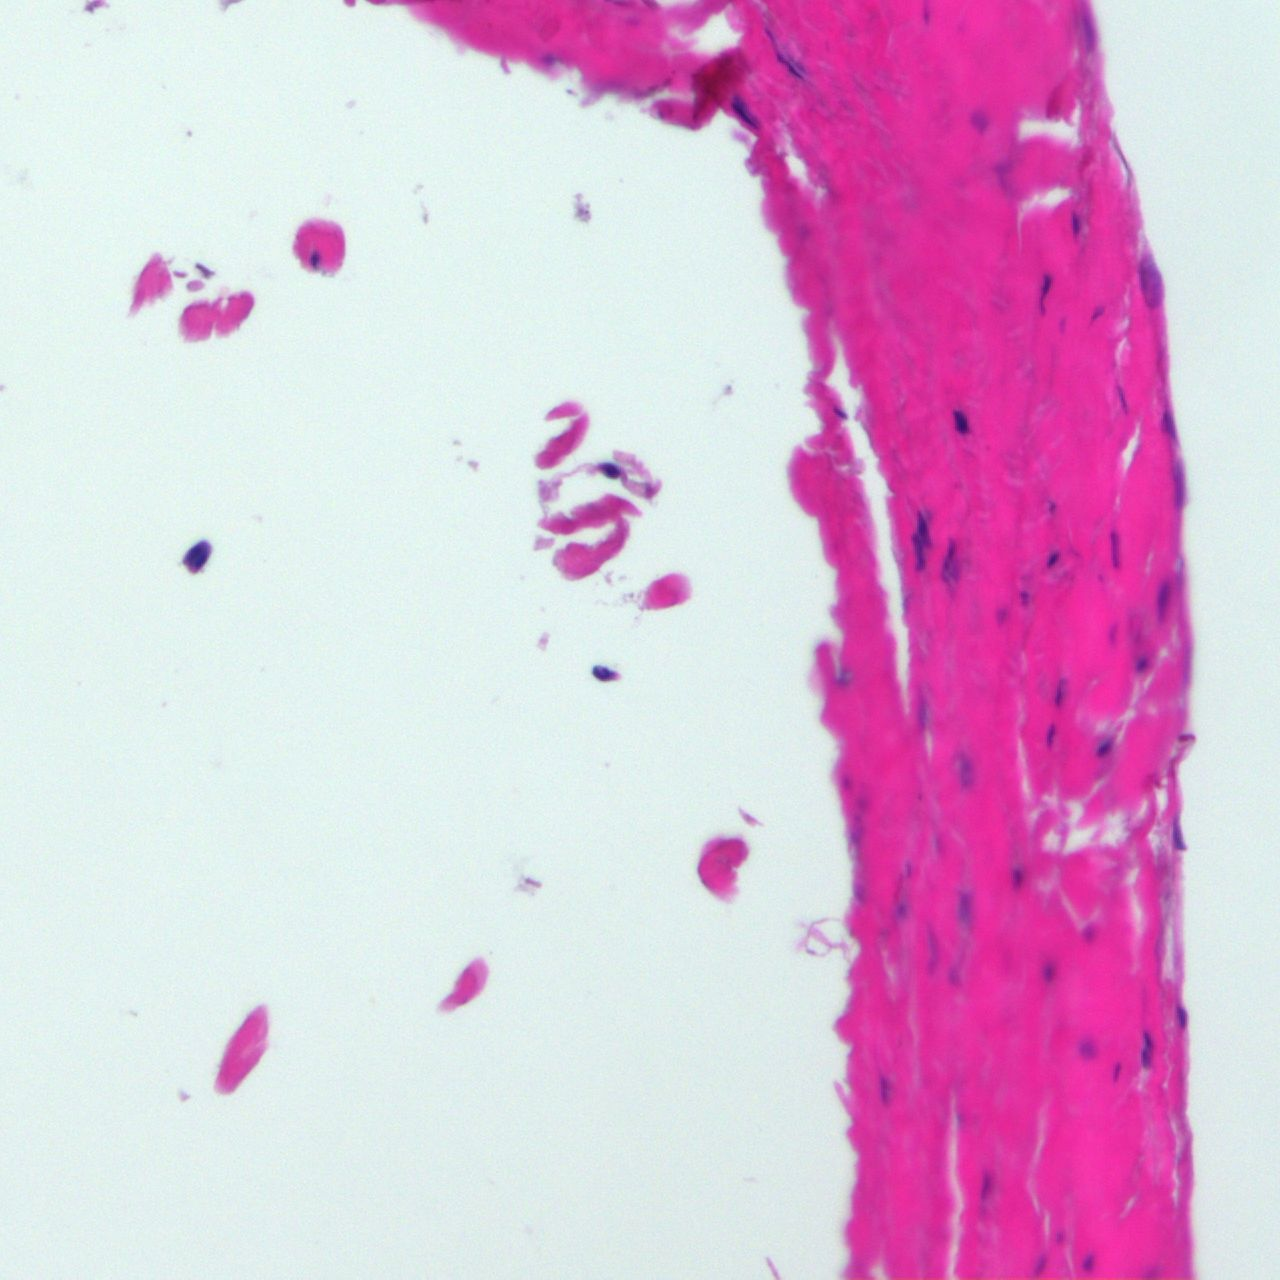nucleus-HE: (757, 25, 805, 83), (1134, 248, 1168, 309), (723, 93, 765, 137), (910, 508, 934, 574), (1155, 402, 1182, 449), (941, 536, 962, 596), (1152, 573, 1172, 625), (1109, 379, 1134, 416), (955, 886, 977, 928), (1090, 731, 1118, 763), (955, 750, 978, 788), (1169, 458, 1187, 506), (1077, 16, 1099, 53), (947, 405, 971, 437), (1083, 299, 1109, 328), (876, 1068, 896, 1105), (968, 104, 991, 136), (915, 693, 932, 734), (924, 920, 936, 978), (1108, 528, 1124, 570), (1138, 1031, 1154, 1073), (1027, 1250, 1049, 1280), (1038, 270, 1052, 315), (1041, 546, 1064, 572), (979, 1170, 992, 1214), (1042, 723, 1059, 752), (1010, 862, 1027, 888), (1038, 960, 1057, 982), (892, 900, 911, 922), (1043, 495, 1060, 517), (1082, 920, 1099, 941), (1132, 654, 1148, 676), (1079, 1036, 1095, 1058), (1081, 1249, 1096, 1272), (1053, 679, 1064, 710), (1109, 1059, 1122, 1084), (944, 965, 959, 986), (1067, 213, 1080, 237), (1174, 1004, 1187, 1028), (900, 857, 911, 881), (1019, 590, 1032, 606), (1053, 1228, 1065, 1244)
